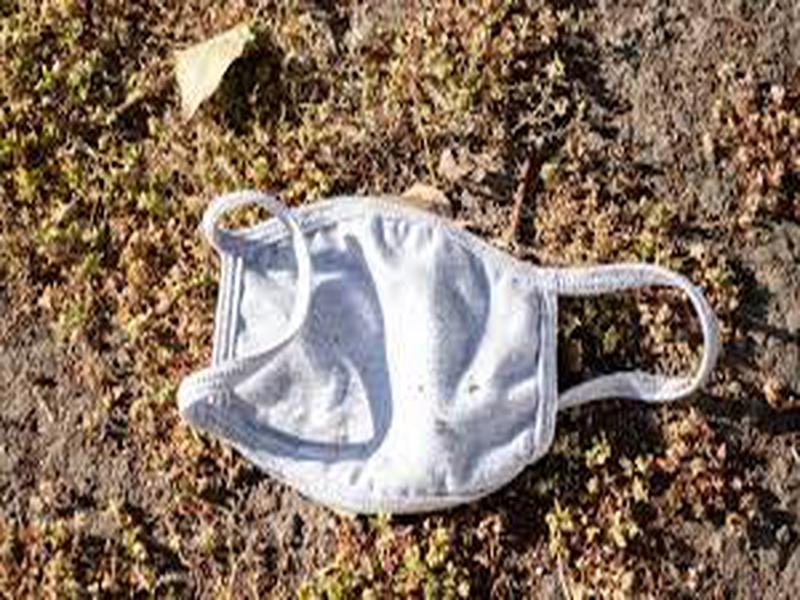mask: (165, 183, 732, 533)
